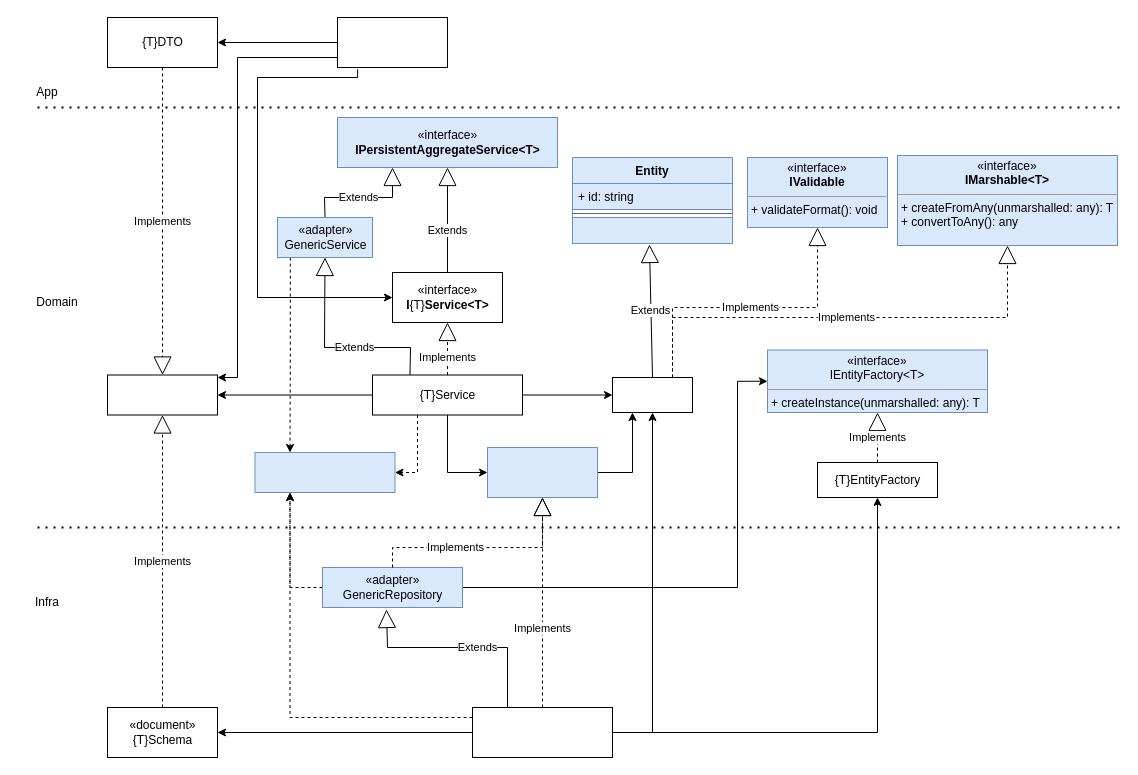
Image size: 1138x775. Some labels were removed from this diagram. Each missing label, with the box of its shape:
+ getId(): string: (572, 216, 732, 244)
{T}: (612, 376, 692, 412)
{T}Controller: (336, 16, 448, 68)
«adapter» {T}Repository: (472, 706, 612, 758)
«interface» I<T>: (106, 374, 218, 415)
«Interface» IEntityFactory<T>: (254, 452, 395, 492)
«interface» IRepository<T>: (486, 446, 598, 498)
